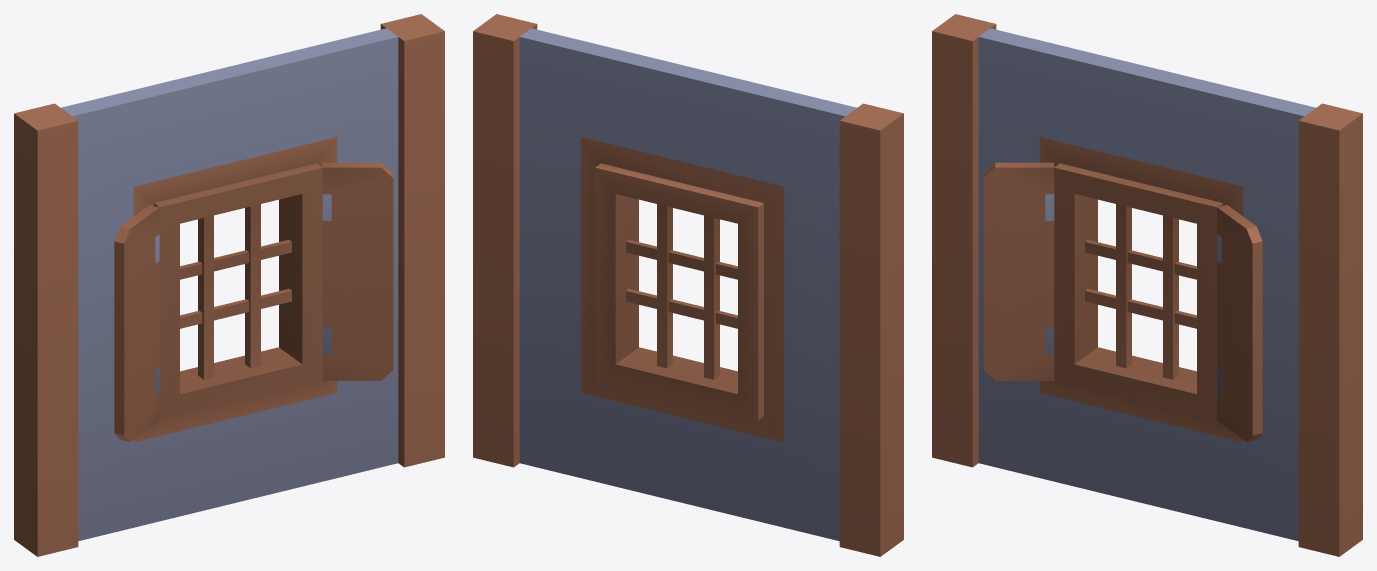
File: fw_window_shutters.glb
The picture shows the model from 3 angles, left to right: view 1: azimuth 30°, elevation 25°; view 2: azimuth 150°, elevation 25°; view 3: azimuth 330°, elevation 25°; orthographic projection.
Visible parts, largest first — view 1: body; view 2: body; view 3: body.
Boxes of the visible parts, <box> form: body: <box>14,14,444,556</box>; body: <box>473,14,903,556</box>; body: <box>932,14,1362,556</box>.
Bounding box in the file's own units: 2.6 × 2.6 × 0.455.
